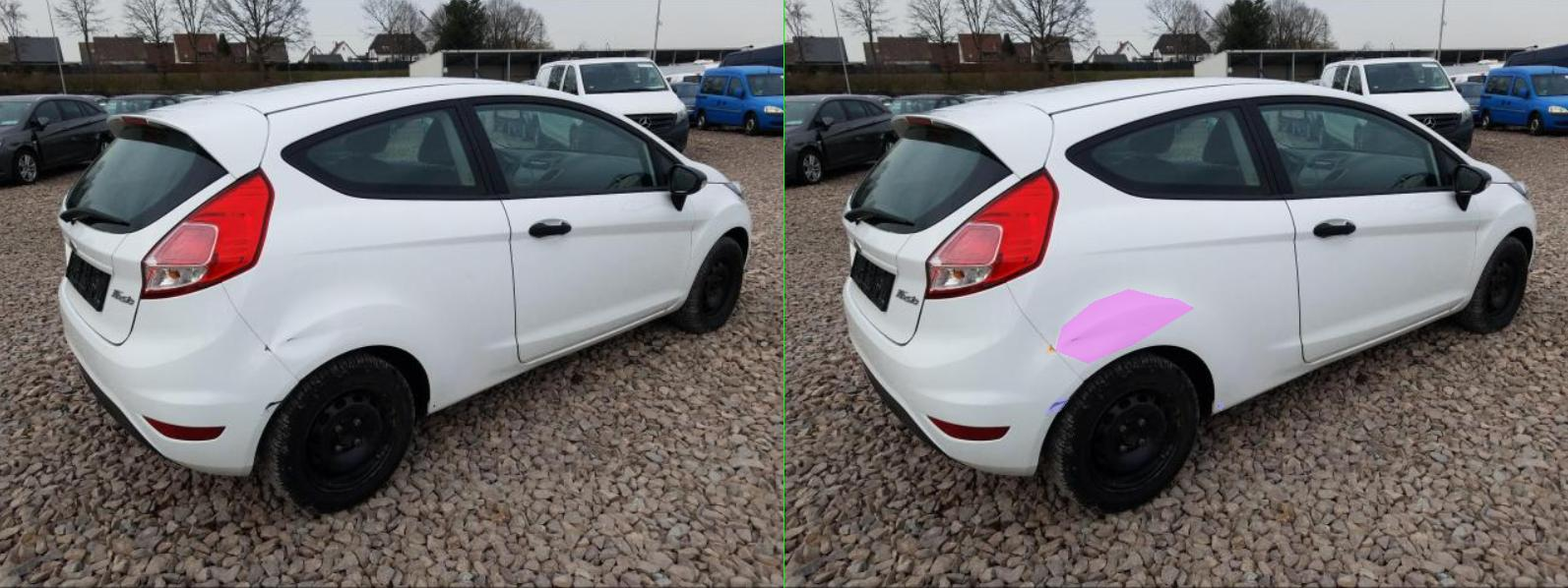Dent: (542, 289, 817, 363)
Paint chip: (524, 343, 544, 352), (569, 336, 591, 344)
Scratch: (518, 398, 569, 413), (865, 401, 879, 410)
